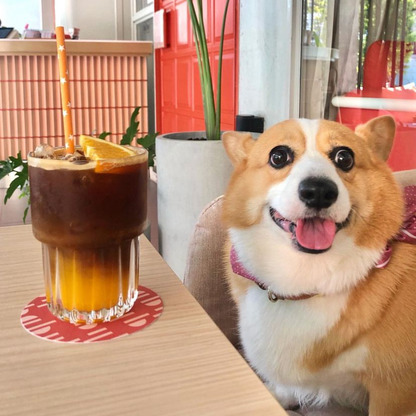Corgi: (195, 101, 412, 367)
